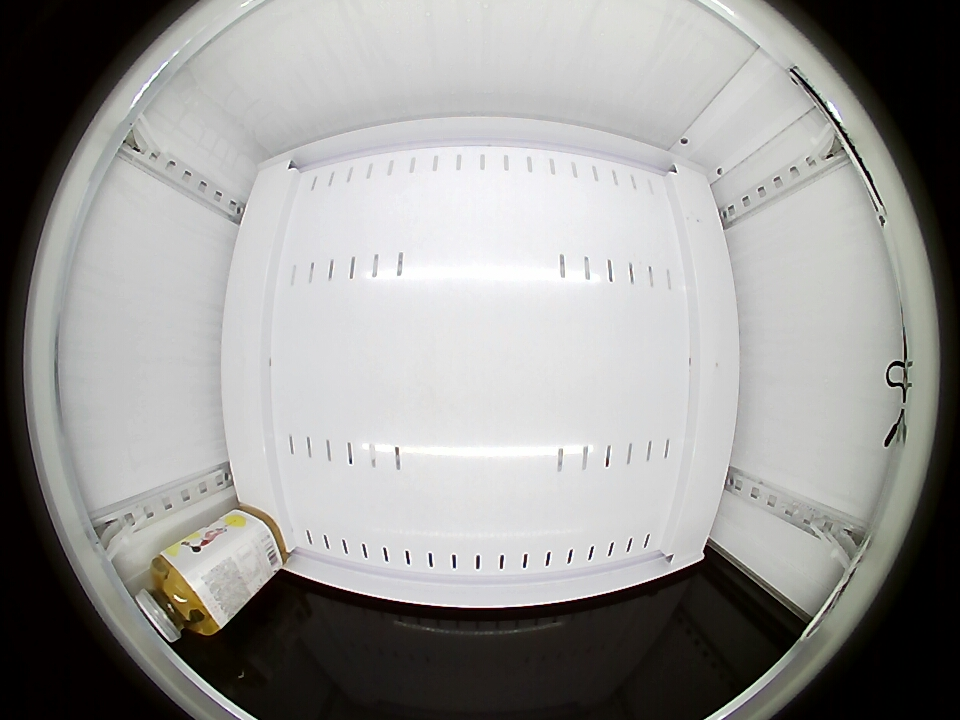chapai: (136, 547, 220, 642)
